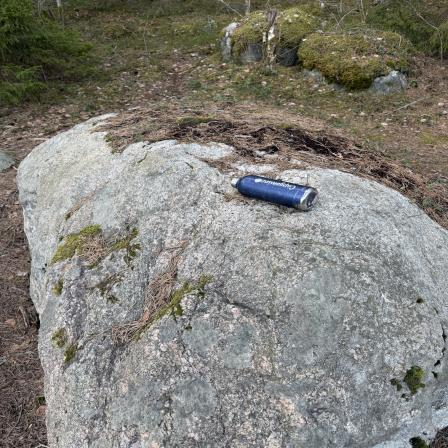blue_bottle: (228, 172, 320, 213)
